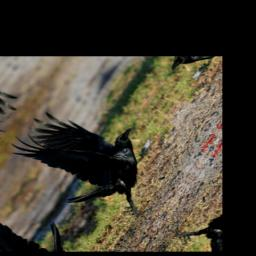Crow: (0, 86, 187, 234)
